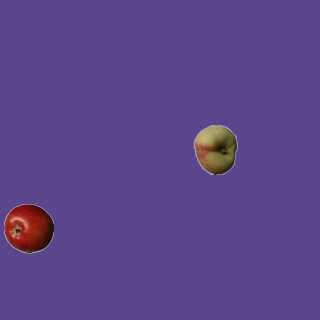Apple Braeburn: (3, 203, 53, 253)
Peach Flat: (190, 124, 240, 174)
